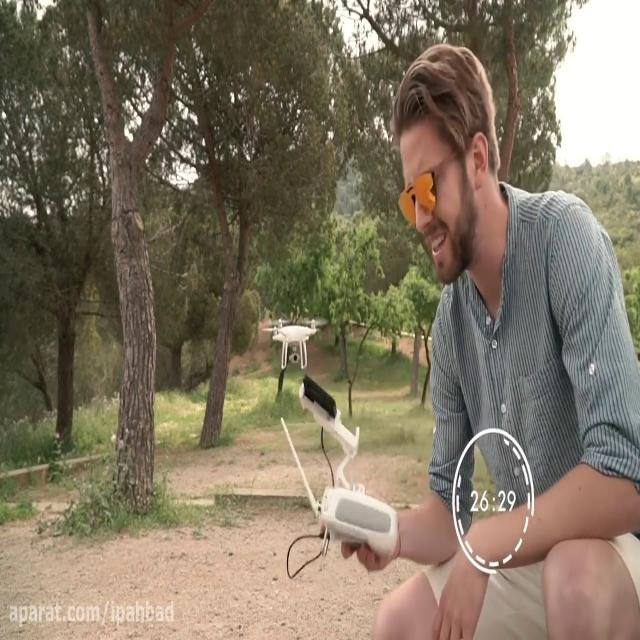drone: (266, 309, 326, 372)
